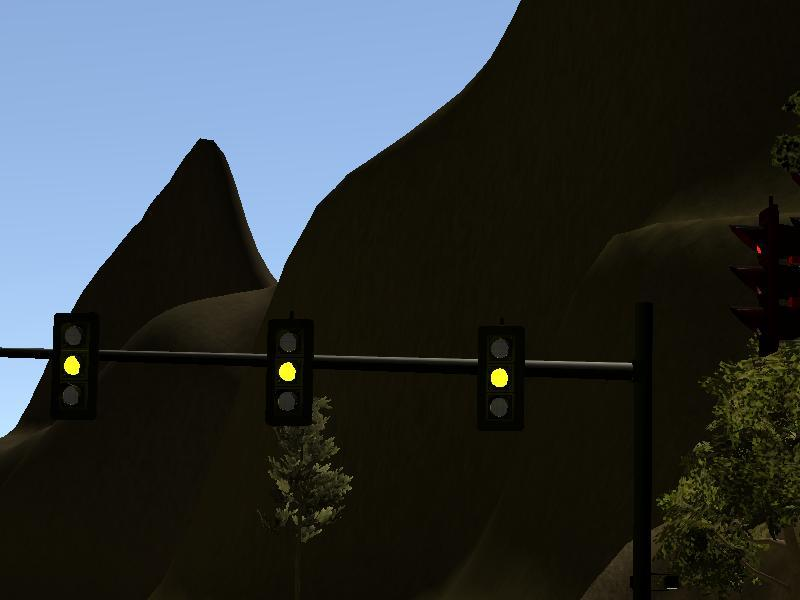Yellow: (476, 326, 524, 430), (266, 317, 312, 423), (52, 311, 95, 413)
